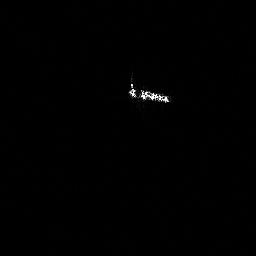ship: (126, 76, 174, 106)
